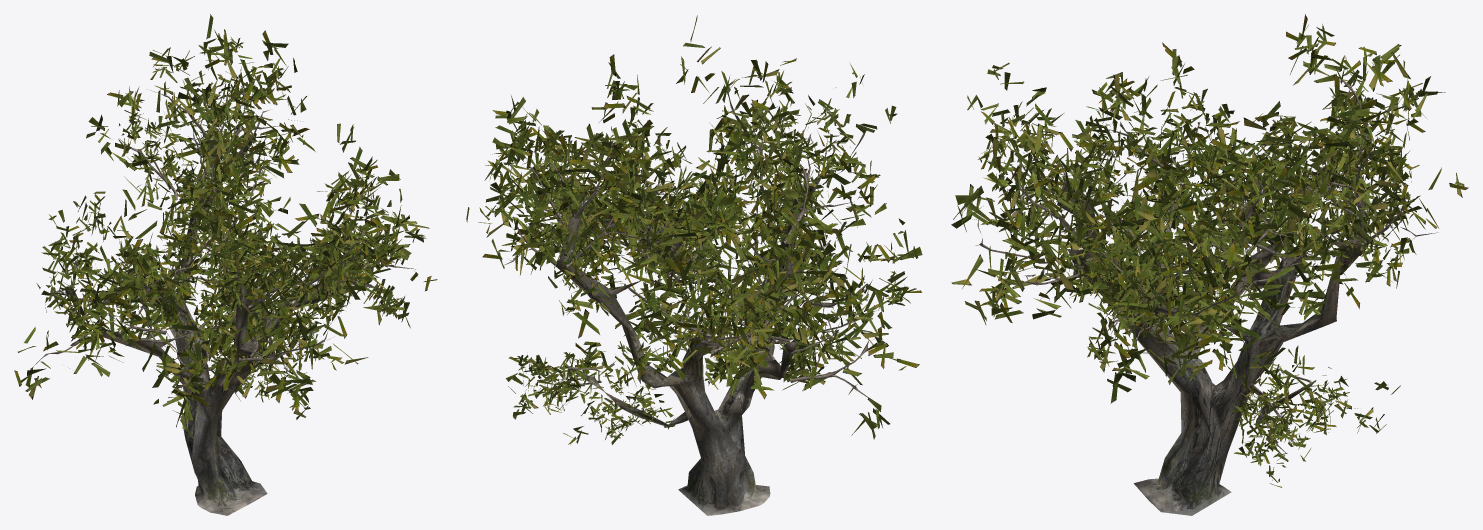
File: island_tree_01_lod1.glb
3 renders of one model, left to right at view 1: azimuth 30°, elevation 25°; view 2: azimuth 150°, elevation 25°; view 3: azimuth 270°, elevation 25°, orthographic. The views are drawn at different scales.
Visible parts, largest first — view 1: island_tree_01_LOD0; view 2: island_tree_01_LOD0; view 3: island_tree_01_LOD0.
Part boxes in pixels (left/top/right/bottom): island_tree_01_LOD0: left=14, top=14, right=437, bottom=515; island_tree_01_LOD0: left=466, top=15, right=922, bottom=515; island_tree_01_LOD0: left=951, top=14, right=1468, bottom=515.
Size of the model in its own units: 4.84 by 5.12 by 4.72.
Materials: 3 (3 with a texture image).
